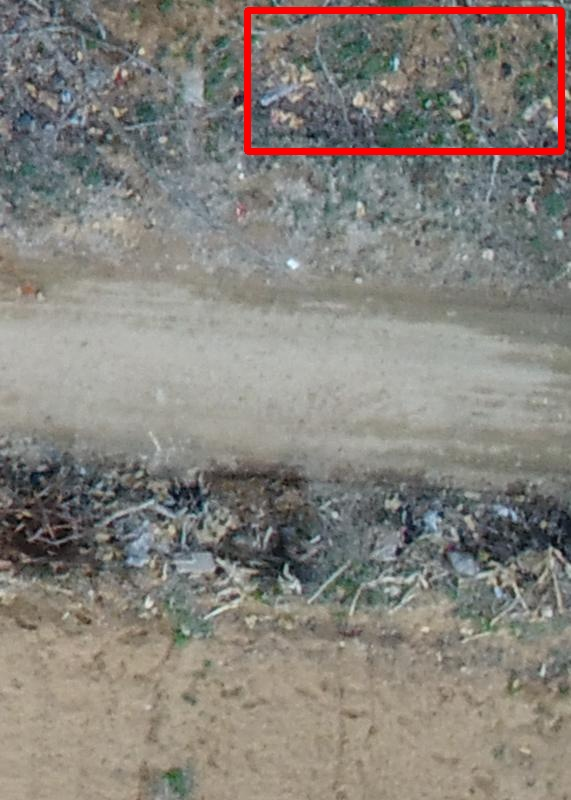apple: (247, 10, 561, 151)
